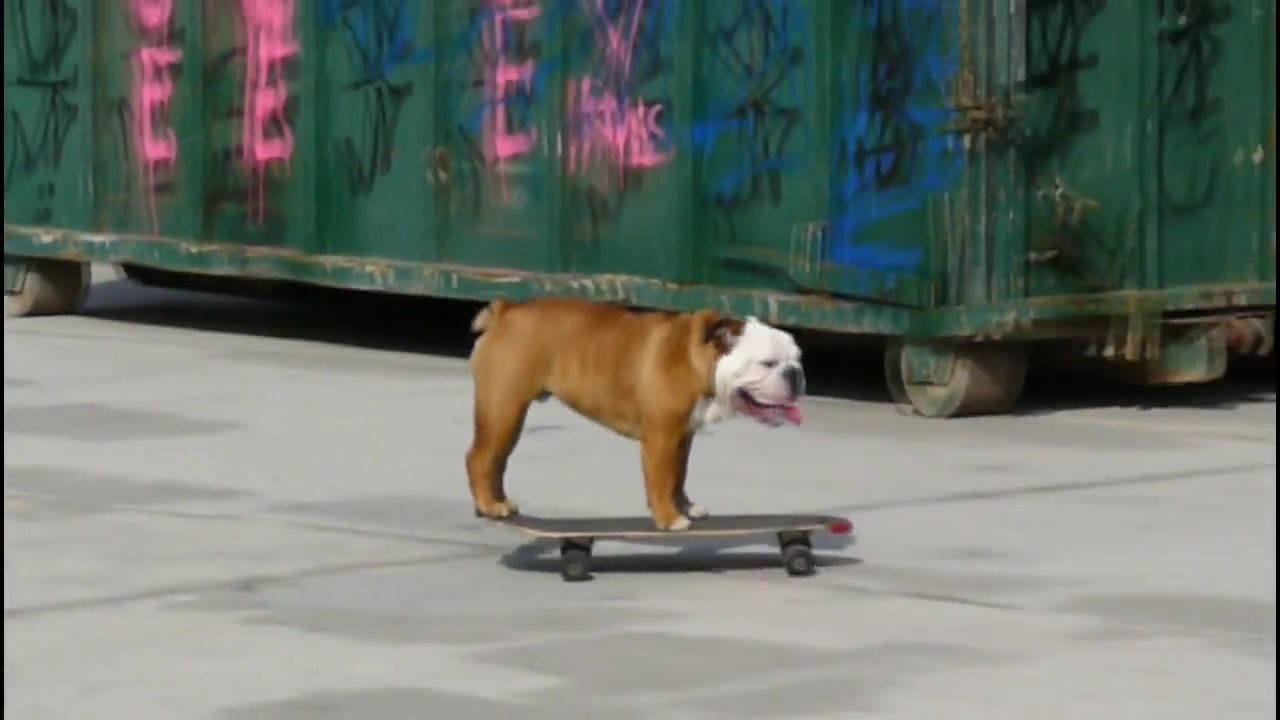dog: (462, 292, 810, 524)
